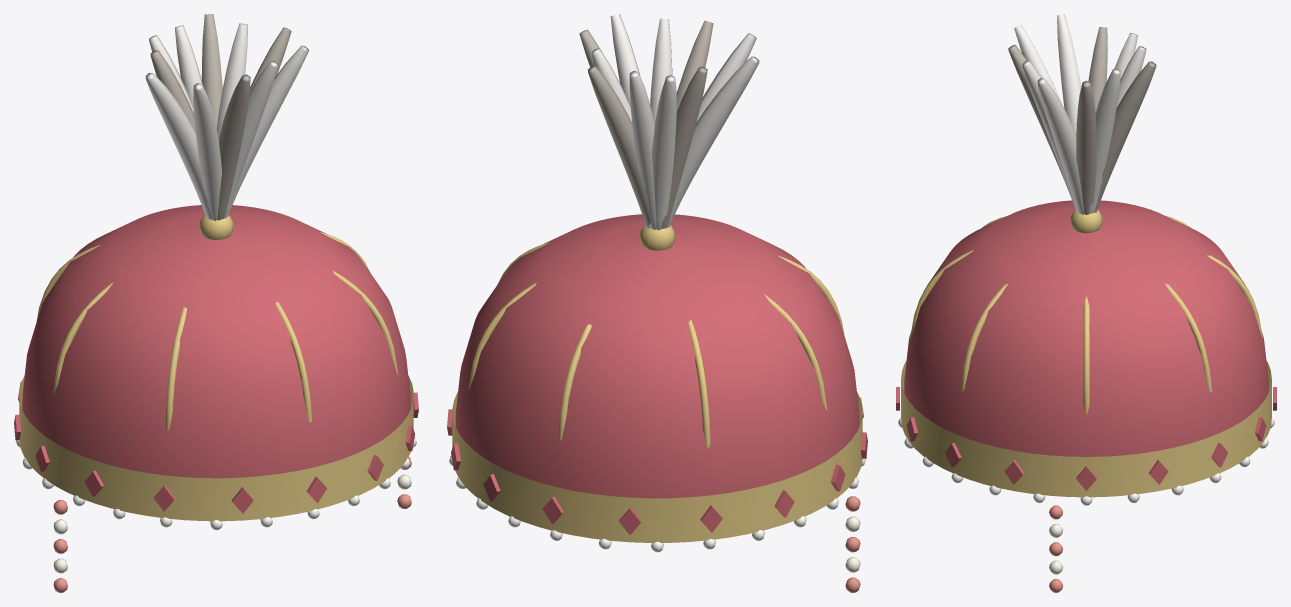
File: kyz-zhibek.glb
The picture shows the model from 3 angles, left to right: view 1: azimuth 30°, elevation 25°; view 2: azimuth 150°, elevation 25°; view 3: azimuth 270°, elevation 25°; orthographic projection. The views are drawn at different scales.
Visible parts, largest first — view 1: cap, feather (×10), band, seam (×4), top-bead; view 2: cap, feather (×10), band, seam (×4), top-bead; view 3: cap, feather (×10), band, seam (×3), top-bead.
Part boxes in pixels (bbox=[...]): cap: bbox=[22, 205, 410, 478]; feather (×10): bbox=[145, 14, 308, 220]; band: bbox=[19, 376, 413, 521]; seam (×4): bbox=[53, 270, 398, 430]; top-bead: bbox=[199, 214, 233, 239]; cap: bbox=[455, 214, 859, 498]; feather (×10): bbox=[587, 14, 759, 230]; band: bbox=[452, 392, 862, 542]; seam (×4): bbox=[468, 282, 827, 448]; top-bead: bbox=[639, 224, 675, 250]; cap: bbox=[904, 200, 1268, 456]; feather (×10): bbox=[1008, 14, 1156, 214]; band: bbox=[901, 360, 1271, 497]; seam (×3): bbox=[960, 283, 1212, 414]; top-bead: bbox=[1070, 209, 1102, 233].
Bounding box in the file's own units: 1.91 × 2.53 × 1.88.
